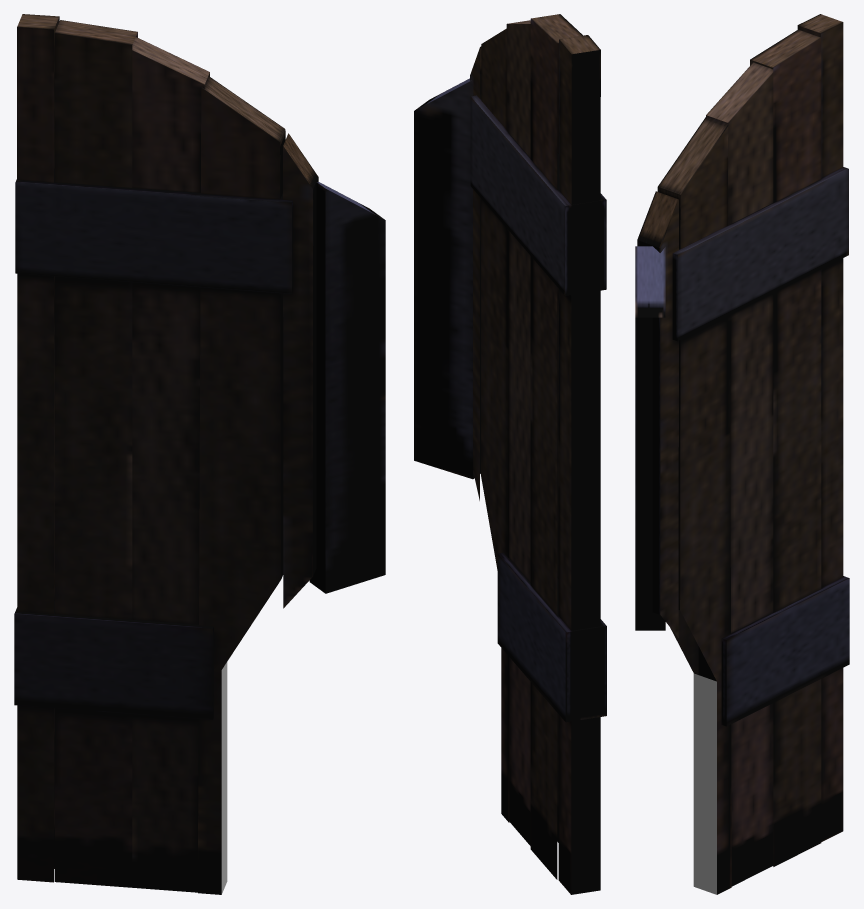
Rendered from DoorSide1F4.obj.
The picture shows the model from 3 angles, left to right: view 1: azimuth 30°, elevation 25°; view 2: azimuth 150°, elevation 25°; view 3: azimuth 270°, elevation 25°; orthographic projection. The views are drawn at different scales.
Parts seen in each view (by area): view 1: object 2, DoorSide1F4_Cube.433; view 2: object 2; view 3: object 2, DoorSide1F4_Cube.433.
Boxes of the visible parts, bbox=[...] form: object 2: bbox=[14, 14, 385, 894]; DoorSide1F4_Cube.433: bbox=[221, 662, 227, 894]; object 2: bbox=[414, 14, 606, 894]; object 2: bbox=[635, 14, 849, 894]; DoorSide1F4_Cube.433: bbox=[693, 673, 716, 894].
Size of the model in its own units: 90.49 by 268 by 64.19.
